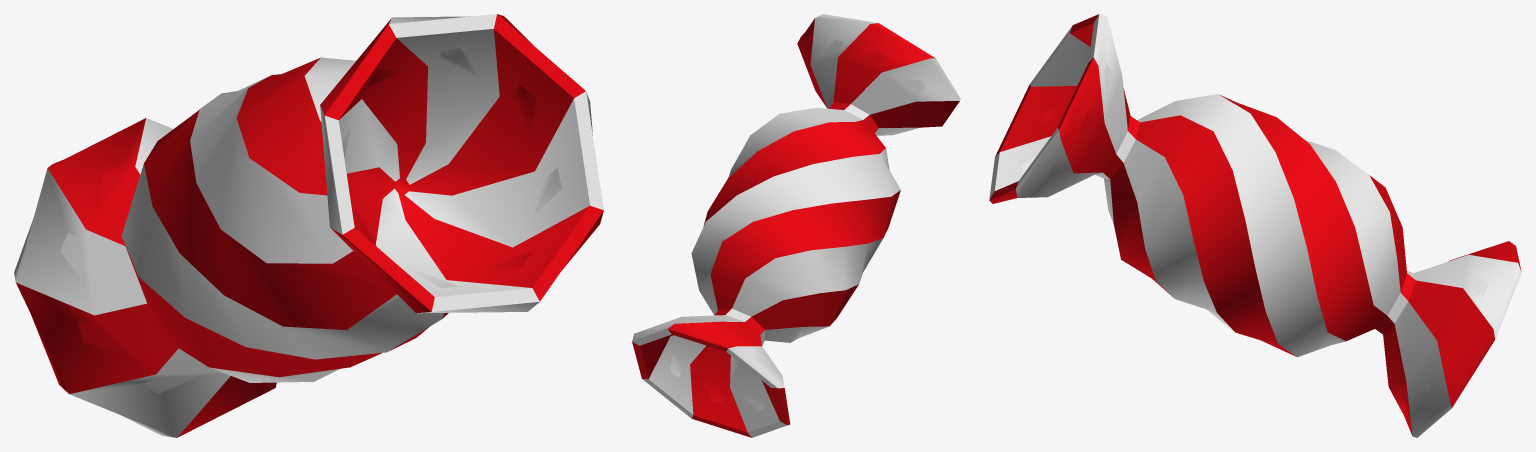
File: SM_FlagCandy.fbx
The picture shows the model from 3 angles, left to right: view 1: azimuth 30°, elevation 25°; view 2: azimuth 150°, elevation 25°; view 3: azimuth 270°, elevation 25°; orthographic projection. The views are drawn at different scales.
Parts seen in each view (by area): view 1: SM_FlagCandy; view 2: SM_FlagCandy; view 3: SM_FlagCandy.
Part boxes in pixels (left/top/right/bottom): SM_FlagCandy: left=14, top=14, right=603, bottom=437; SM_FlagCandy: left=632, top=14, right=960, bottom=437; SM_FlagCandy: left=989, top=14, right=1521, bottom=437.
Bounding box in the file's own units: 28.5 × 57.02 × 69.21.
